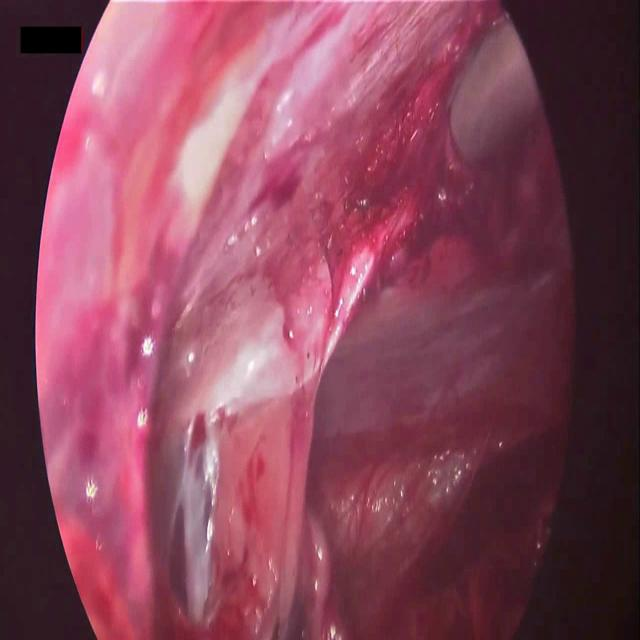surgical-area: (34, 3, 575, 639)
